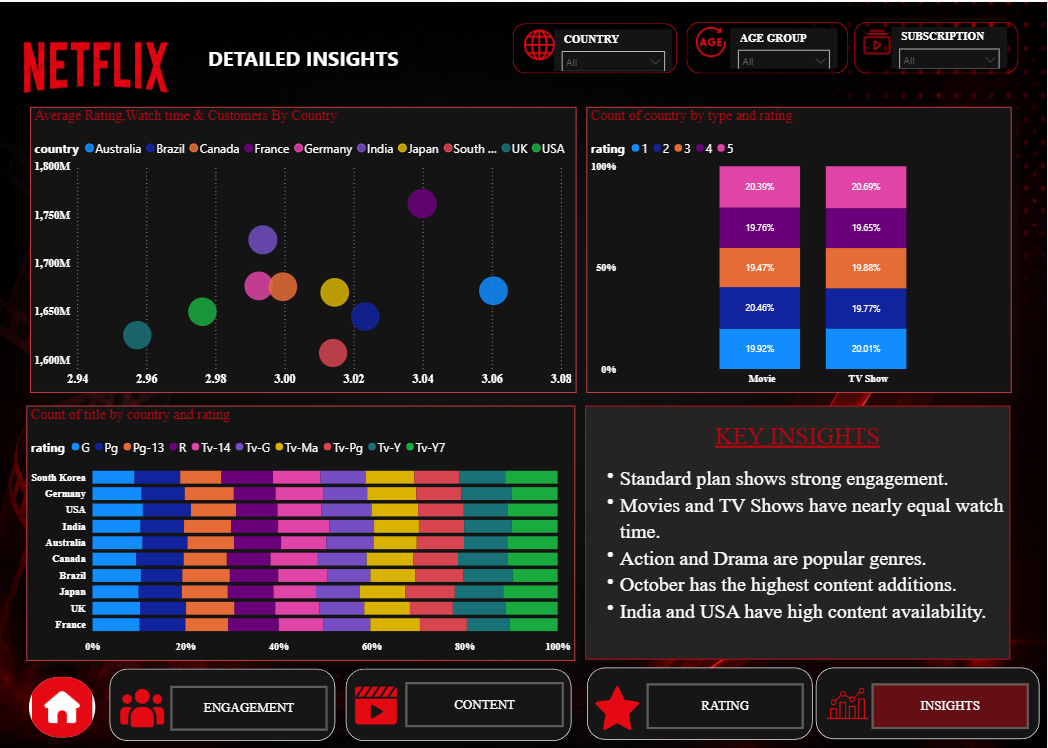

The page's visual inventory and layout, read from the dashboard file:
{"tool":"powerbi","page":{"name":"Page 4","canvas":[1390,990],"ordinal":4},"visuals":[{"type":"shape","box":[451.4,875.3,317.5,113.8],"z":0},{"type":"shape","box":[137.6,876.2,317.5,113.8],"z":1000},{"type":"textbox","box":[40.7,51.8,724.6,73.9],"z":2000},{"type":"shape","box":[682.6,28.6,218.1,66.5],"z":3000},{"type":"slicer","fields":{"Values":["netflix_customer_ratings_20000.country"]},"box":[736.2,36,157.1,55.5],"z":4000},{"type":"image","box":[695.6,36,44.4,40.7],"z":5000},{"type":"shape","box":[911.7,27.2,214.4,68.4],"z":6000},{"type":"slicer","fields":{"Values":["netflix_customer_ratings_20000.Age Group"]},"box":[970.8,34.6,142.3,53.6],"z":7000},{"type":"shape","box":[1133.9,27.3,218.1,68.4],"z":8000},{"type":"image","box":[921.9,32.4,44.5,40.3],"z":9000},{"type":"slicer","fields":{"Values":["netflix_customer_ratings_20000.subscription_type"]},"box":[1185.2,32.8,153.4,55.5],"z":10000},{"type":"image","box":[1142.7,33,44.5,40.3],"z":11000},{"type":"image","box":[39.8,895.8,87.9,79.6],"z":12000},{"type":"actionButton","title":"ENgagement off","box":[226.9,907,209,59.7],"z":13000},{"type":"actionButton","title":"content off","box":[539.7,902.6,210.6,60.2],"z":16000},{"type":"image","box":[161.5,897.4,58.7,78.9],"z":17000},{"type":"image","box":[471.6,893.7,58.7,78.9],"z":18000},{"type":"shape","box":[771.2,874.8,317.5,113.8],"z":19000},{"type":"actionButton","title":"Rating off","box":[859.5,903.9,208.9,61],"z":21000},{"type":"image","box":[790.9,897.4,58.7,78.9],"z":22000},{"type":"shape","box":[1075.1,874.3,314.9,113],"z":23000},{"type":"actionButton","title":"INSIGHTS on","box":[1157.1,903.9,208.9,61],"z":24000},{"type":"image","box":[1096.6,891,59.3,79.7],"z":26000},{"type":"scatterChart","title":"Average Rating,Watch time & Customers By Country","fields":{"X":["Avg(netflix_customer_ratings_20000.rating)"],"Y":["Formulas.Total Watch Time"],"Category":["netflix_customer_ratings_20000.country"],"Series":["netflix_customer_ratings_20000.country"],"Size":["CountNonNull(netflix_customer_ratings_20000.customer_id)"]},"box":[40.7,138.6,724.6,378.9],"z":27000},{"type":"hundredPercentStackedColumnChart","fields":{"Category":["netflix_dataset_20000.type"],"Y":["CountNonNull(netflix_customer_ratings_20000.country)"],"Series":["netflix_customer_ratings_20000.rating"]},"box":[780,138.6,563.8,378.9],"z":28000},{"type":"hundredPercentStackedBarChart","fields":{"Category":["netflix_dataset_20000.country"],"Y":["CountNonNull(netflix_dataset_20000.title)"],"Series":["netflix_dataset_20000.rating"]},"box":[37,536,728.3,338.3],"z":29000},{"type":"textbox","box":[778.2,536,563.8,336.4],"z":30000}]}

Visuals, with their boxes in screenshot pixels (x1, y1, x2, y2), scaled from the page's 1390x990 canvas onto the 1048x748 screenshot:
shape: [x1=340, y1=661, x2=580, y2=747]
shape: [x1=104, y1=662, x2=343, y2=747]
textbox: [x1=31, y1=39, x2=577, y2=95]
shape: [x1=515, y1=22, x2=679, y2=72]
slicer - netflix_customer_ratings_20000.country: [x1=555, y1=27, x2=674, y2=69]
image: [x1=524, y1=27, x2=558, y2=58]
shape: [x1=687, y1=21, x2=849, y2=72]
slicer - netflix_customer_ratings_20000.Age Group: [x1=732, y1=26, x2=839, y2=67]
shape: [x1=855, y1=21, x2=1019, y2=72]
image: [x1=695, y1=24, x2=729, y2=55]
slicer - netflix_customer_ratings_20000.subscription_type: [x1=894, y1=25, x2=1009, y2=67]
image: [x1=862, y1=25, x2=895, y2=55]
image: [x1=30, y1=677, x2=96, y2=737]
"ENgagement off" actionButton: [x1=171, y1=685, x2=329, y2=730]
"content off" actionButton: [x1=407, y1=682, x2=566, y2=727]
image: [x1=122, y1=678, x2=166, y2=738]
image: [x1=356, y1=675, x2=400, y2=735]
shape: [x1=581, y1=661, x2=821, y2=747]
"Rating off" actionButton: [x1=648, y1=683, x2=806, y2=729]
image: [x1=596, y1=678, x2=641, y2=738]
shape: [x1=811, y1=661, x2=1047, y2=746]
"INSIGHTS on" actionButton: [x1=872, y1=683, x2=1030, y2=729]
image: [x1=827, y1=673, x2=871, y2=733]
"Average Rating,Watch time & Customers By Country" scatterChart: [x1=31, y1=105, x2=577, y2=391]
hundredPercentStackedColumnChart - netflix_dataset_20000.type x CountNonNull(netflix_customer_ratings_20000.country): [x1=588, y1=105, x2=1013, y2=391]
hundredPercentStackedBarChart - netflix_dataset_20000.country x CountNonNull(netflix_dataset_20000.title): [x1=28, y1=405, x2=577, y2=661]
textbox: [x1=587, y1=405, x2=1012, y2=659]
